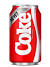coke: (15, 11, 33, 56)
